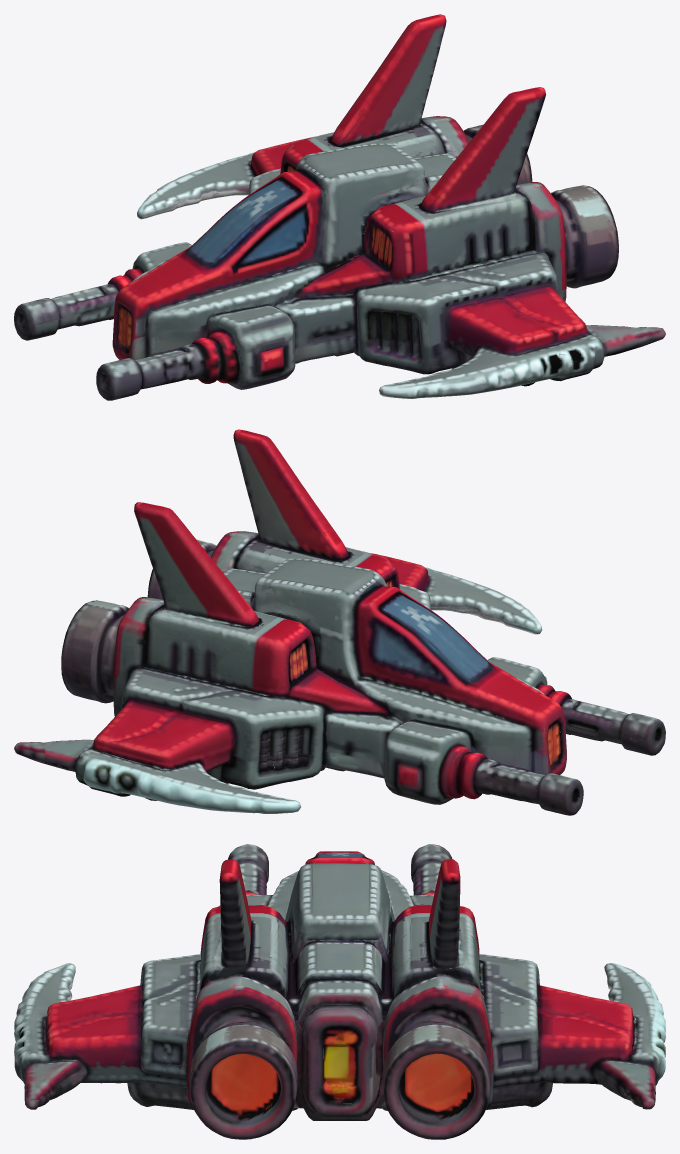
Rendered from Specter_Phasefreame.glb.
3 renders of one model, top to bottom at view 1: azimuth 30°, elevation 25°; view 2: azimuth 150°, elevation 25°; view 3: azimuth 270°, elevation 25°, orthographic. The views are drawn at different scales.
Parts seen in each view (by area): view 1: Mesh_0; view 2: Mesh_0; view 3: Mesh_0.
Boxes of the visible parts, bbox=[...] form: Mesh_0: bbox=[14, 14, 665, 400]; Mesh_0: bbox=[14, 429, 665, 815]; Mesh_0: bbox=[14, 844, 665, 1139].
Size of the model in its own units: 1.87 by 0.8952 by 1.91.
1 material, 1 textured.
